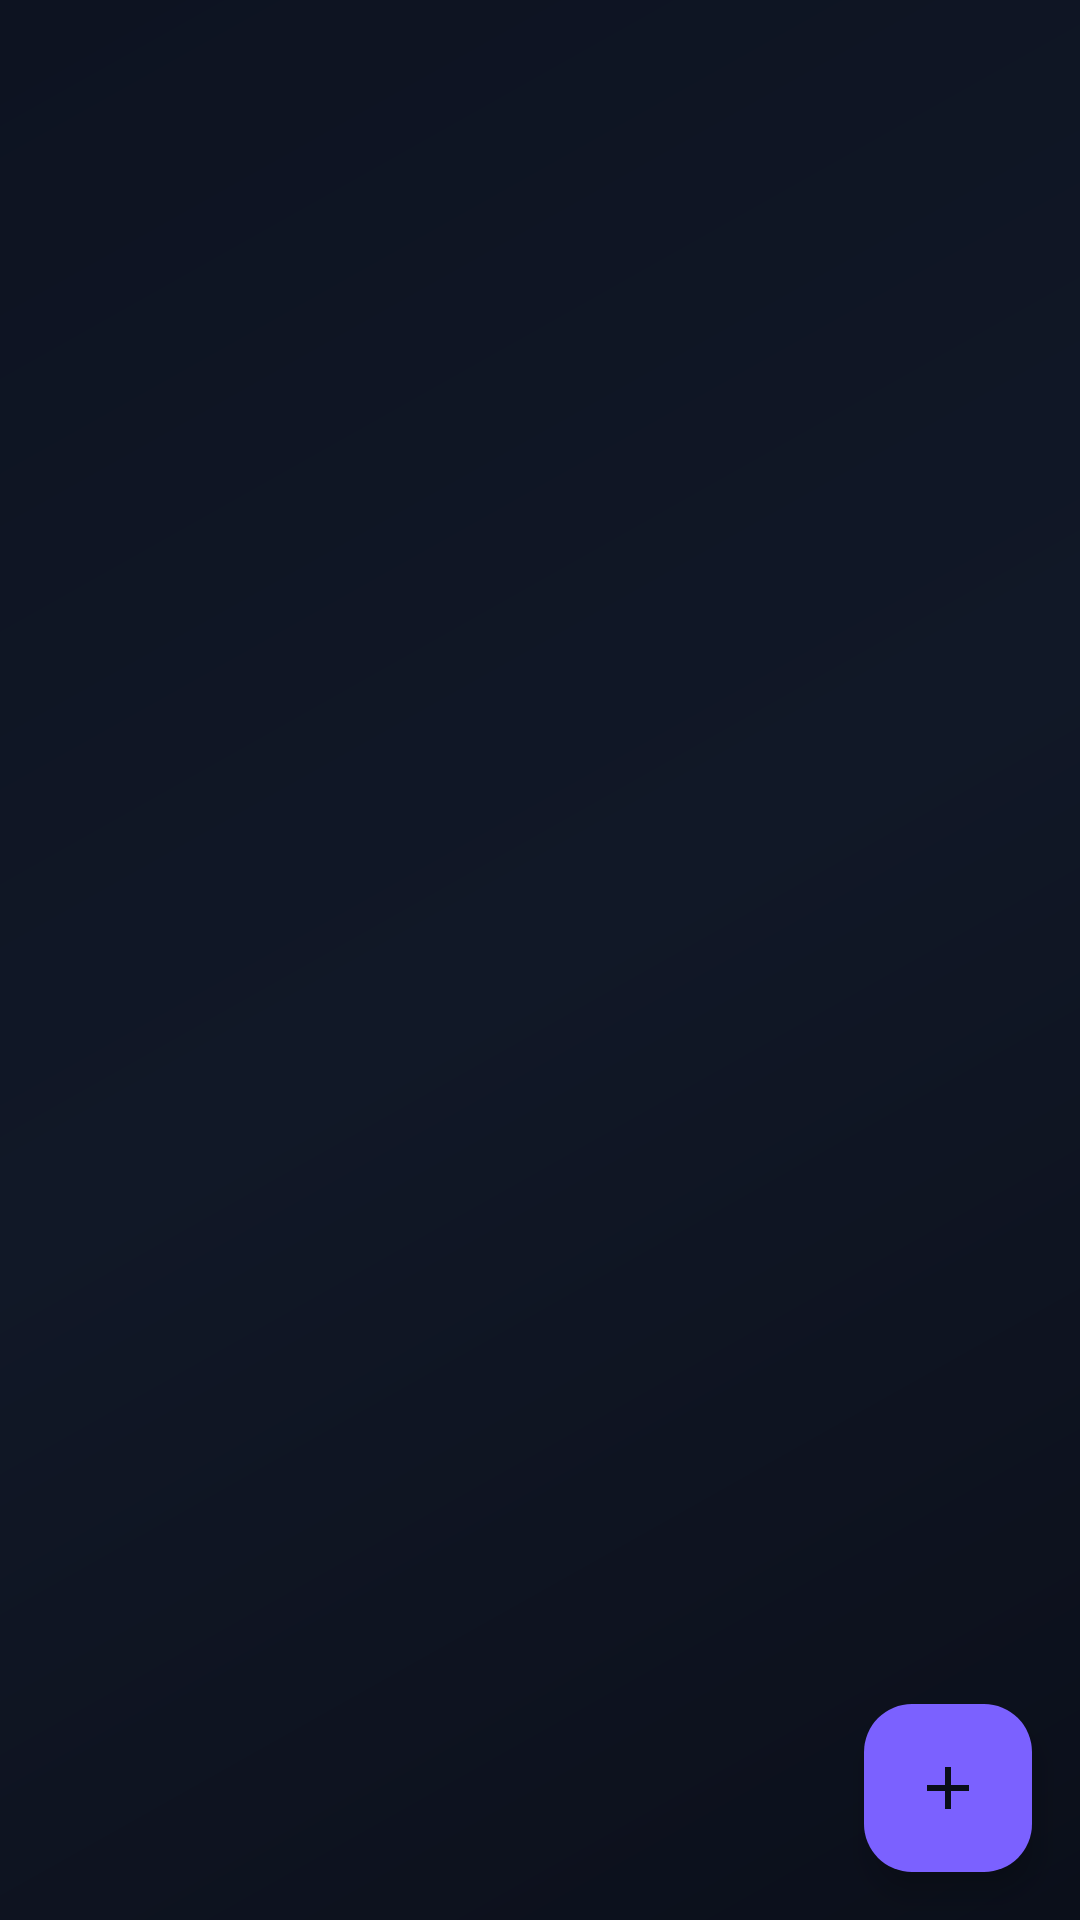

Where icons sit on this 1080px x 1920px app screen, as box=[x1, y1, x2, y2]:
新建存档: box=[864, 1704, 1032, 1872]
